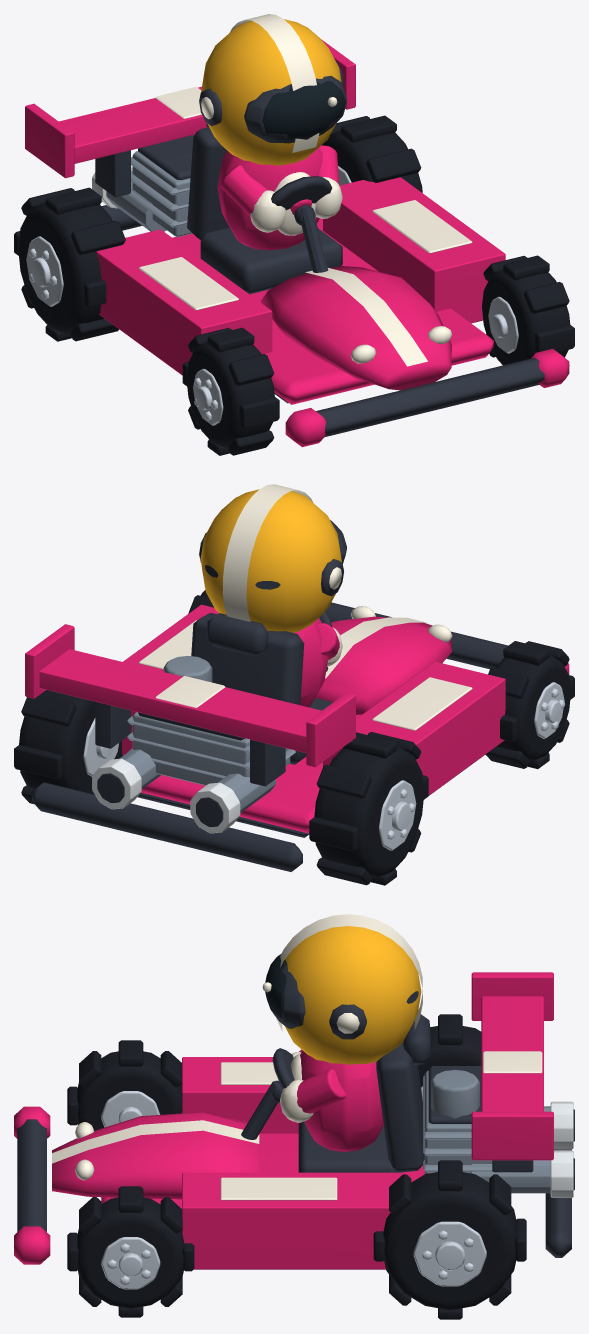
The model's file is giggle-kart.glb.
The picture shows the model from 3 angles, top to bottom: view 1: azimuth 30°, elevation 25°; view 2: azimuth 150°, elevation 25°; view 3: azimuth 270°, elevation 25°; orthographic projection.
Visible parts, largest first — view 1: SidePod_L, SidePod_R, NoseCone, DriverHelmet, WheelMesh_RL, RearWing, WheelMesh_FL, FrontBumper, DriverSeat, WheelMesh_FR, ChassisFloor, DriverVisor (+9 smaller); view 2: RearWing, DriverHelmet, WheelMesh_RL, SidePod_L, WheelMesh_FL, DriverSeat, WheelMesh_RR, RearBumper, NoseCone, EngineBlock, ChassisFloor, Exhaust_L (+7 smaller); view 3: SidePod_R, WheelMesh_RR, DriverHelmet, RearWing, WheelMesh_FR, NoseCone, DriverSeat, WheelMesh_FL, SidePod_L, EngineBlock, DriverTorso, FrontBumper (+10 smaller).
Part boxes in pixels (x1,y1,x2,y2): SidePod_L: [96, 229, 272, 375]; SidePod_R: [323, 177, 505, 323]; NoseCone: [260, 266, 452, 390]; DriverHelmet: [199, 14, 343, 165]; WheelMesh_RL: [14, 187, 125, 341]; RearWing: [25, 40, 355, 197]; WheelMesh_FL: [182, 327, 279, 455]; FrontBumper: [285, 349, 569, 447]; DriverSeat: [187, 123, 342, 294]; WheelMesh_FR: [482, 255, 574, 365]; ChassisFloor: [172, 218, 493, 404]; DriverVisor: [244, 75, 346, 143]; RearWing: [25, 624, 355, 786]; DriverHelmet: [199, 484, 343, 632]; WheelMesh_RL: [309, 732, 428, 885]; SidePod_L: [323, 661, 505, 795]; WheelMesh_FL: [485, 641, 574, 769]; DriverSeat: [191, 613, 332, 764]; WheelMesh_RR: [14, 690, 122, 804]; RearBumper: [32, 782, 302, 871]; NoseCone: [315, 606, 452, 714]; EngineBlock: [127, 656, 295, 785]; ChassisFloor: [141, 714, 361, 833]; Exhaust_L: [190, 773, 275, 833]; SidePod_R: [182, 1172, 408, 1269]; WheelMesh_RR: [373, 1160, 526, 1319]; DriverHelmet: [276, 914, 422, 1064]; RearWing: [471, 972, 553, 1172]; WheelMesh_FR: [67, 1186, 194, 1317]; NoseCone: [52, 1112, 259, 1199]; DriverSeat: [298, 1014, 431, 1172]; WheelMesh_FL: [67, 1040, 181, 1130]; SidePod_L: [182, 1057, 299, 1133]; EngineBlock: [423, 1066, 492, 1174]; DriverTorso: [291, 1050, 383, 1151]; FrontBumper: [14, 1106, 50, 1264].
Bounding box in the file's own units: 2.61 × 2.12 × 3.41.
